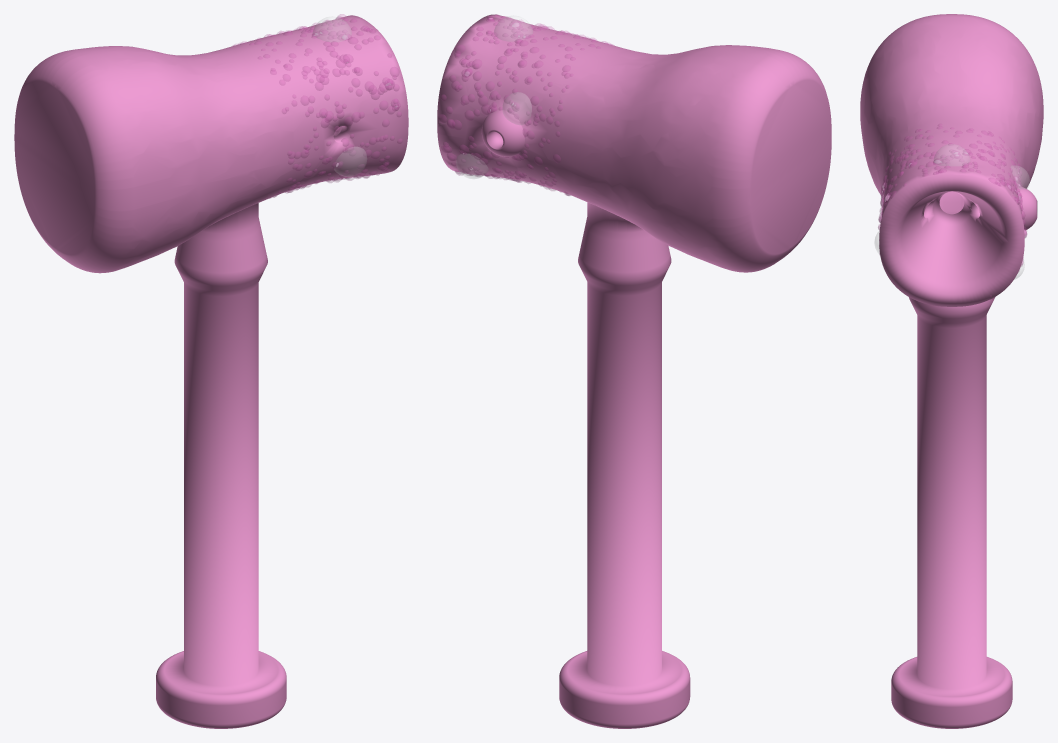
The model's file is hammer_magenta_gold.glb.
3 views of the same model, side by side, from view 1: azimuth 30°, elevation 25°; view 2: azimuth 150°, elevation 25°; view 3: azimuth 270°, elevation 25° (orthographic). The views are drawn at different scales.
Parts seen in each view (by area): view 1: body, frit, marbles; view 2: body, frit, marbles; view 3: body, frit, marbles.
Boxes of the visible parts, left/top/right/bottom form: body: left=14, top=15, right=408, bottom=728; frit: left=233, top=14, right=402, bottom=198; marbles: left=313, top=16, right=366, bottom=176; body: left=437, top=14, right=831, bottom=728; frit: left=439, top=14, right=612, bottom=195; marbles: left=456, top=16, right=532, bottom=178; body: left=860, top=14, right=1043, bottom=728; frit: left=878, top=124, right=1027, bottom=299; marbles: left=874, top=144, right=1029, bottom=279.
Bounding box in the file's own units: 0.0681 × 0.1398 × 0.0371.
